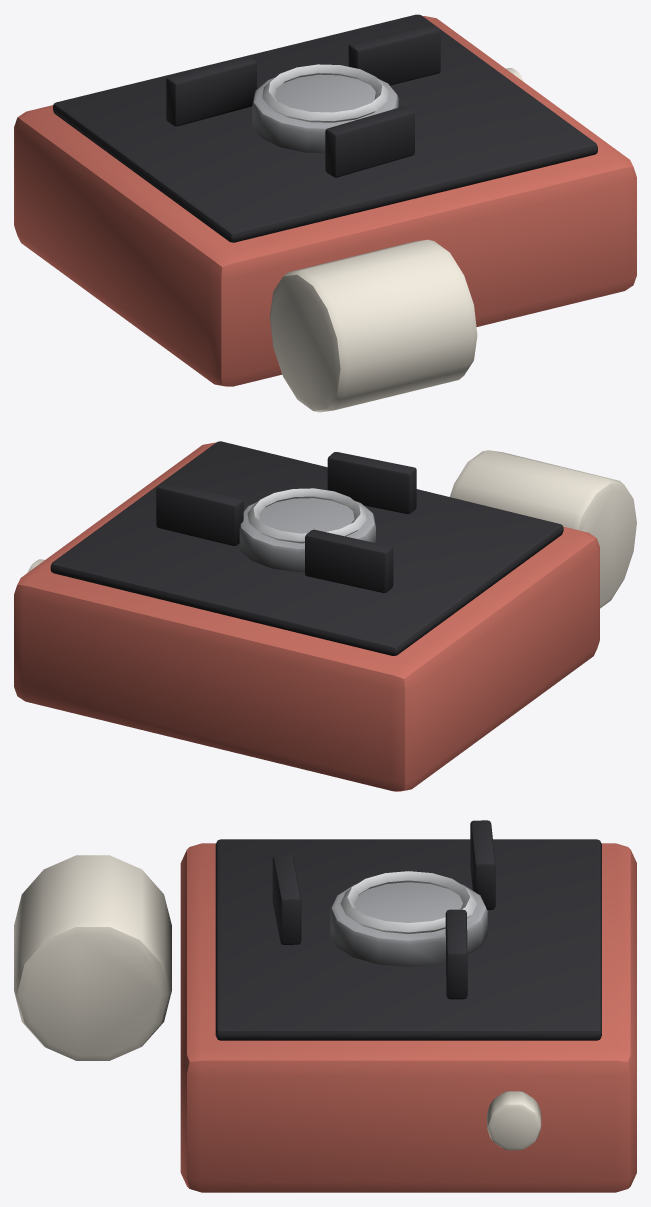
The model's file is cook_stove.glb.
The picture shows the model from 3 angles, top to bottom: view 1: azimuth 30°, elevation 25°; view 2: azimuth 150°, elevation 25°; view 3: azimuth 270°, elevation 25°; orthographic projection. The views are drawn at different scales.
Parts seen in each view (by area): view 1: PART; view 2: PART; view 3: PART.
Part boxes in pixels (box(x1,y1,x2,y2)): PART: box(14, 14, 636, 412); PART: box(14, 441, 636, 791); PART: box(14, 820, 636, 1192).
Size of the model in its own units: 0.32 by 0.13 by 0.355.
